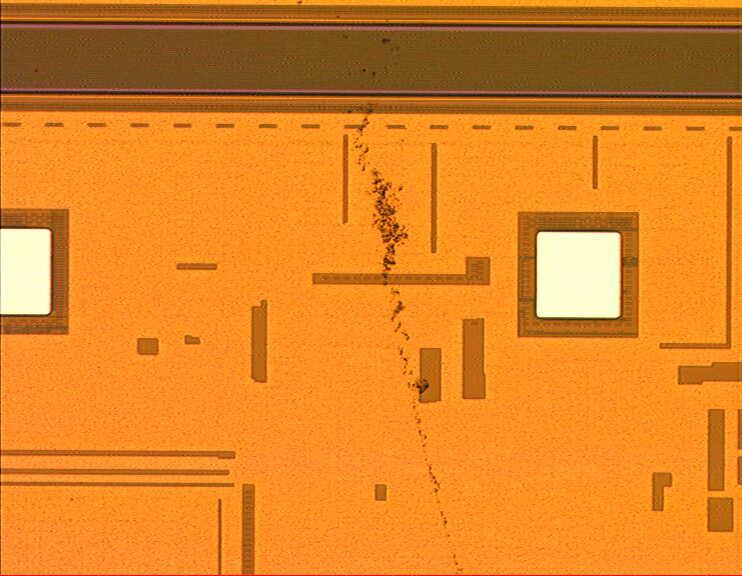PO CONTAMINATION: (276, 1, 486, 576)
